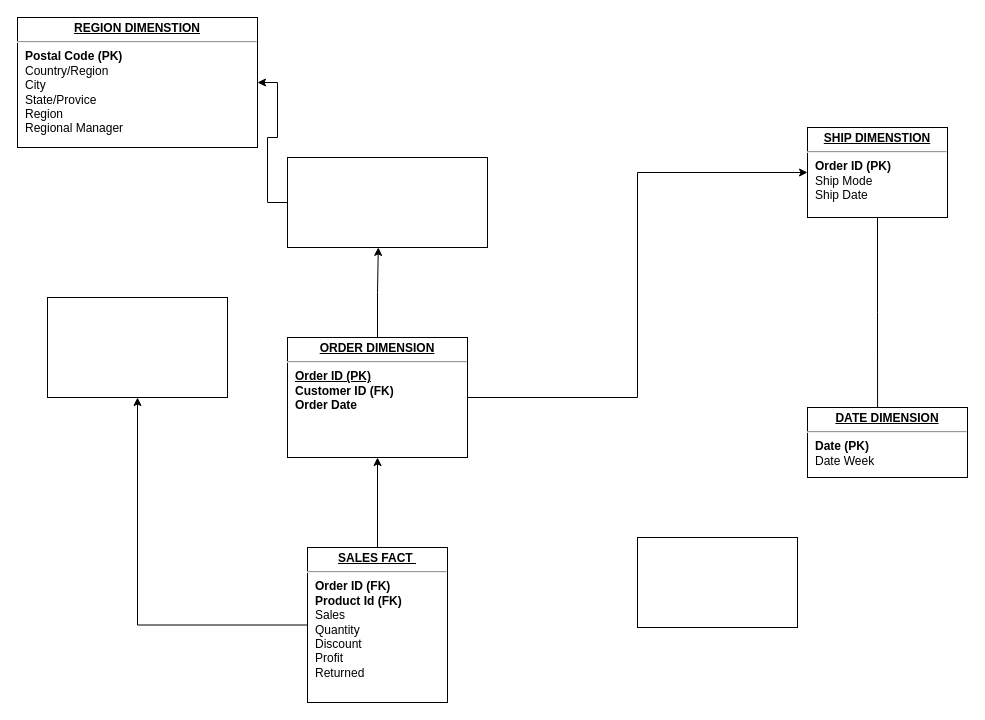
The diagram is 985 pixels wide and 720 high, and some of its shapes have lost their labels. Each missing label, with the box of its shape:
CUSTOMER_DIMENSTION Customer ID (PK) Customer Name Segment Postal Code: (286, 156, 488, 248)
PRODUCT_DIMENSION Product Id (PK) Category Sub Category Product Name: (46, 296, 228, 398)
TARGET DIMENSION Category Order Date Segment Sales Target: (636, 536, 798, 628)
